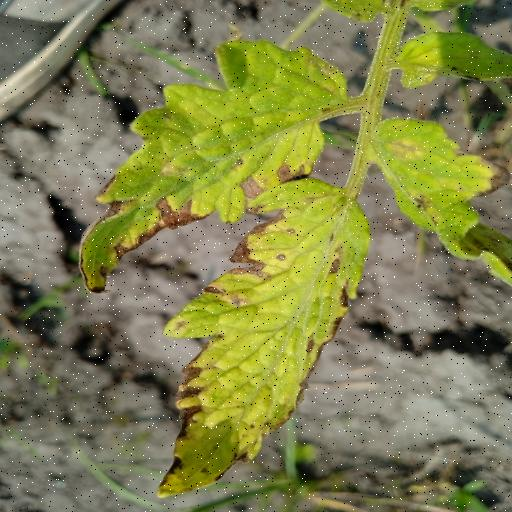Tomato_Brown_Spots: (153, 168, 375, 504), (78, 37, 354, 298), (370, 107, 512, 290)
